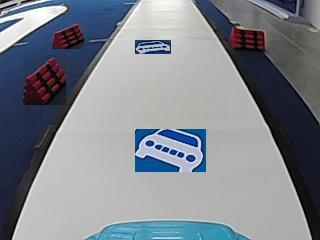bomb: (228, 27, 266, 49)
